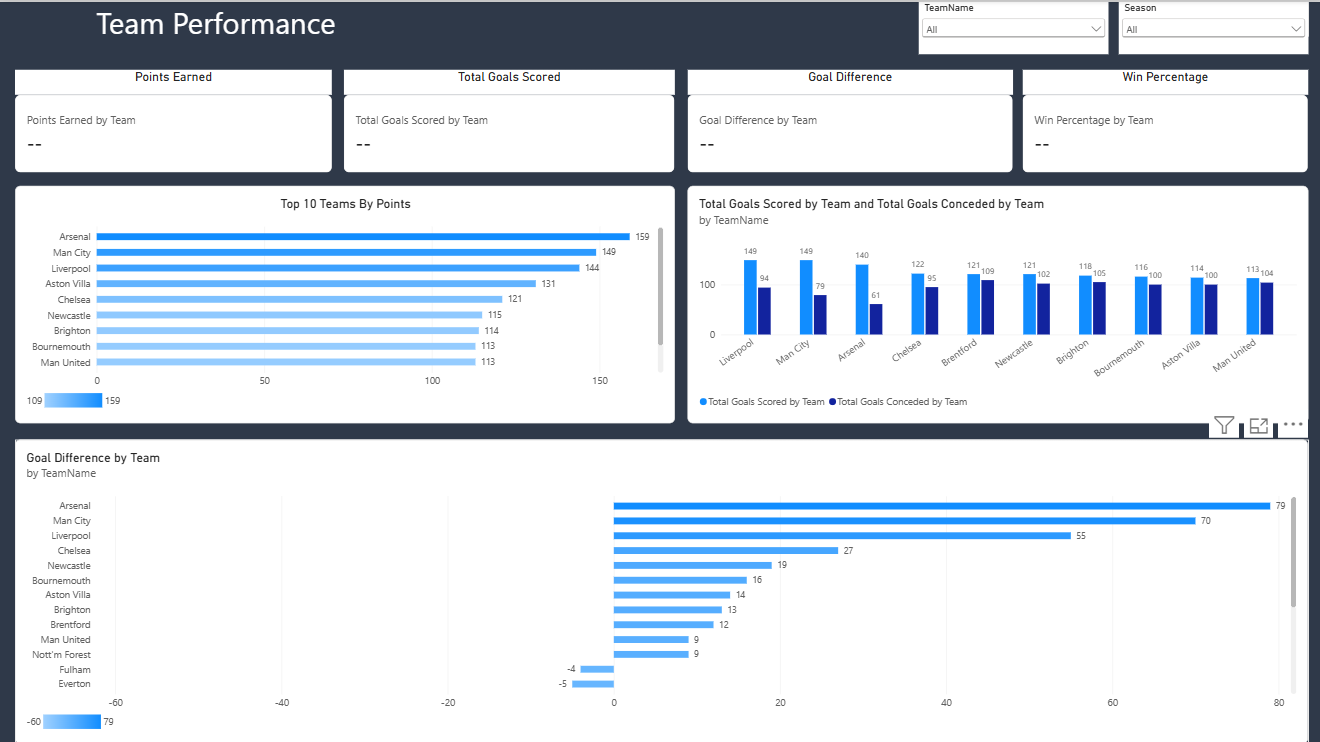

The dashboard page shown, as its layout file describes it:
{"tool":"powerbi","page":{"name":"Team Performance","canvas":[1920,1080],"ordinal":1},"visuals":[{"type":"textbox","box":[0,0,1904,53.5],"z":0},{"type":"cardVisual","title":"Points Earned ","fields":{"Data":["E0.Points Earned by Team"]},"box":[22.6,98.8,461.1,150.3],"z":1},{"type":"slicer","fields":{"Values":["Teams.TeamName"]},"box":[1335.9,0,275.8,76.2],"z":2},{"type":"slicer","fields":{"Values":["E0.Season"]},"box":[1628.1,0,275.8,76.2],"z":3},{"type":"cardVisual","title":"Total Goals Scored","fields":{"Data":["E0.Total Goals Scored by Team"]},"box":[500.2,98.8,481.6,150.3],"z":4},{"type":"cardVisual","title":"Goal Difference ","fields":{"Data":["E0.Goal Difference by Team"]},"box":[1000.3,98.8,473.4,150.3],"z":5},{"type":"cardVisual","title":"Win Percentage","fields":{"Data":["E0.Win Percentage by Team"]},"box":[1488.2,98.8,415.8,150.3],"z":6},{"type":"barChart","title":"Top 10 Teams By Points","fields":{"Category":["Teams.TeamName"],"Y":["E0.Points Earned by Team"]},"box":[22.2,266.6,960.3,345.6],"z":7},{"type":"clusteredColumnChart","fields":{"Category":["Teams.TeamName"],"Y":["E0.Total Goals Scored by Team","E0.Total Goals Conceded by Team"]},"box":[999.7,266.6,903.5,345.6],"z":8},{"type":"clusteredBarChart","fields":{"Category":["Teams.TeamName"],"Y":["E0.Goal Difference by Team"]},"box":[22.2,636.9,1881,444.3],"z":9}]}

Visuals, with their boxes in screenshot pixels (x1, y1, x2, y2), scaled from the page's 1920x1080 canvas onto the 1320x742 screenshot:
textbox: 0/0/1309/37
"Points Earned " cardVisual: 16/68/333/171
slicer - Teams.TeamName: 918/0/1108/52
slicer - E0.Season: 1119/0/1309/52
"Total Goals Scored" cardVisual: 344/68/675/171
"Goal Difference " cardVisual: 688/68/1013/171
"Win Percentage" cardVisual: 1023/68/1309/171
"Top 10 Teams By Points" barChart: 15/183/675/421
clusteredColumnChart - Teams.TeamName x E0.Total Goals Scored by Team: 687/183/1308/421
clusteredBarChart - Teams.TeamName x E0.Goal Difference by Team: 15/438/1308/741
